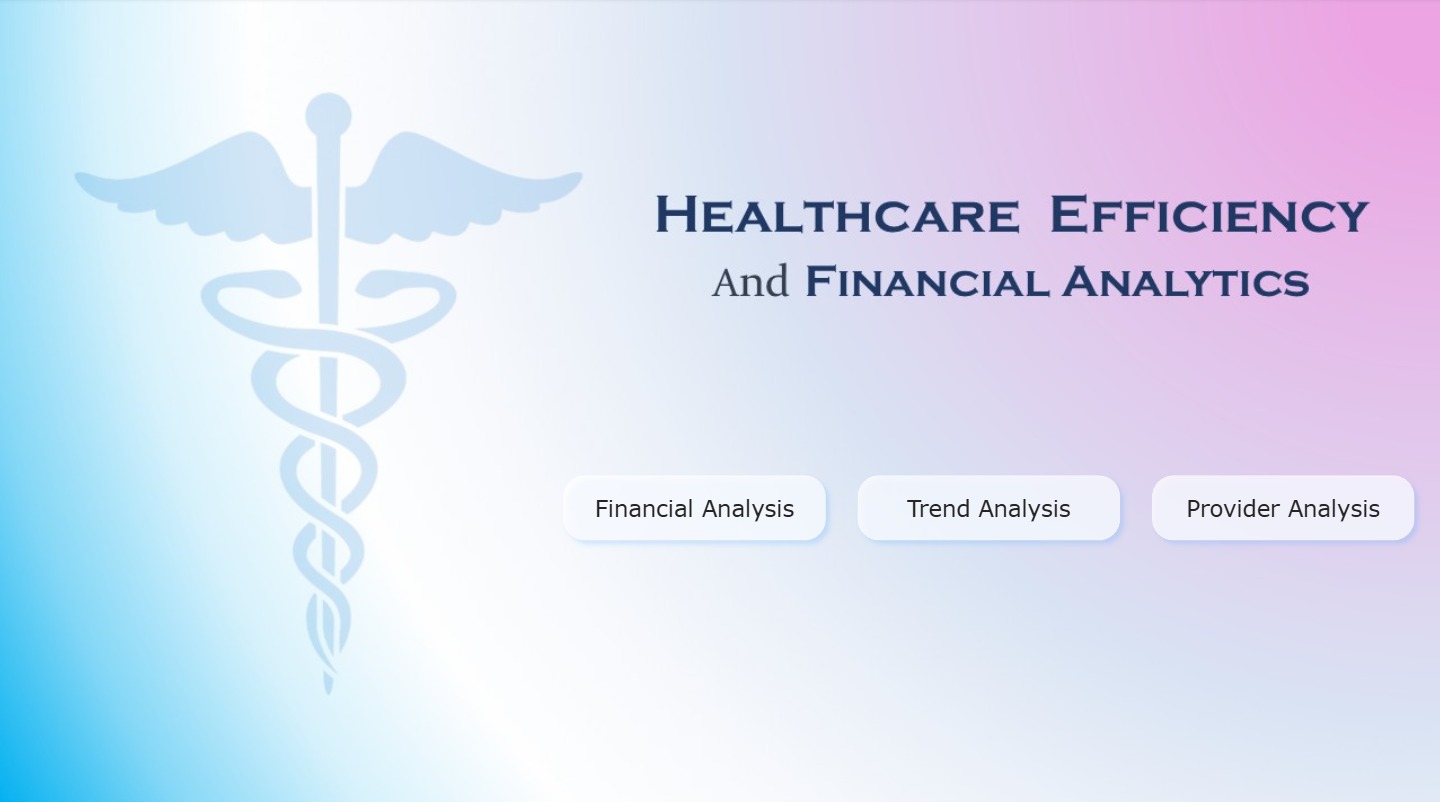

The dashboard page shown, as its layout file describes it:
{"tool":"powerbi","page":{"name":"Home Window","canvas":[1280,720],"ordinal":0},"visuals":[{"type":"pageNavigator","box":[491,413.8,773.3,76],"z":0}]}

Visuals, with their boxes in screenshot pixels (x1, y1, x2, y2), scaled from the page's 1280x720 canvas onto the 1440x802 screenshot:
pageNavigator: (552,461,1422,546)
